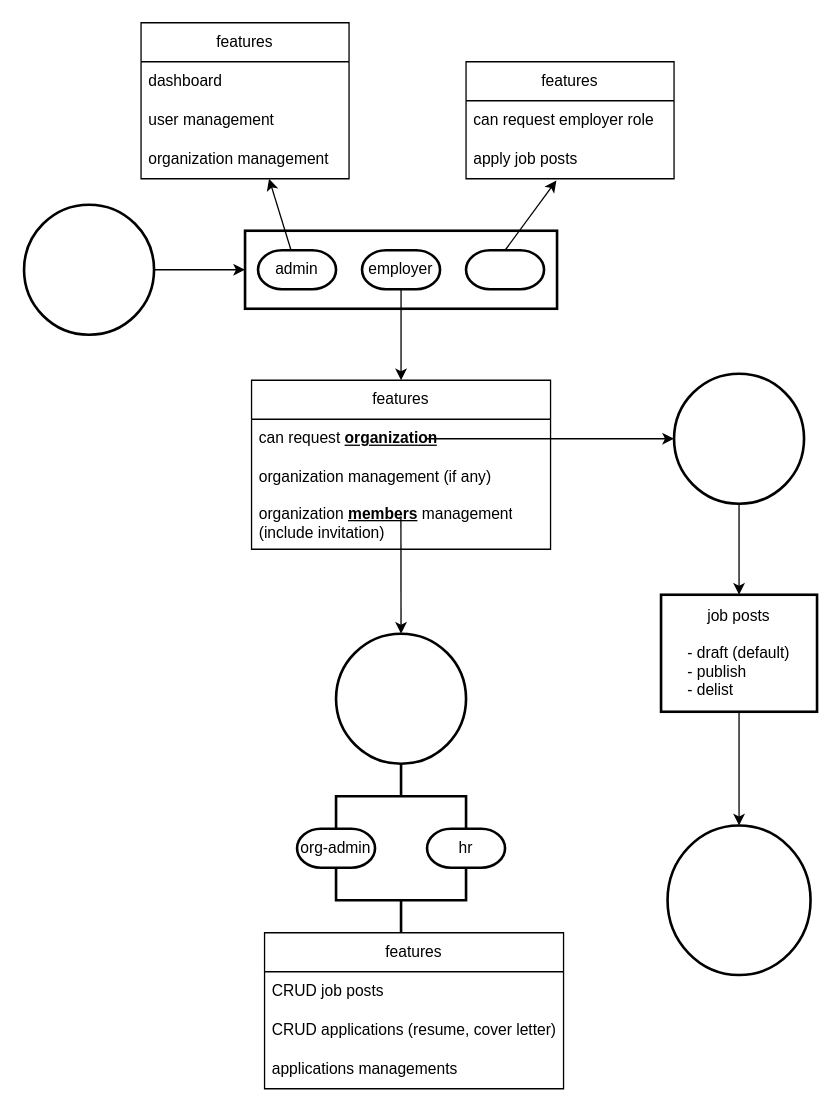
The diagram is 840 pixels wide and 1112 high, and some of its shapes have lost their labels. Each missing label, with the centre of its shape:
"applications ( resume, coverletter )" belongs at point 738,900.
"members" belongs at point 400,698.
"organizations" belongs at point 738,438.
"user" belongs at point 504,269.
"users" belongs at point 88,269.
